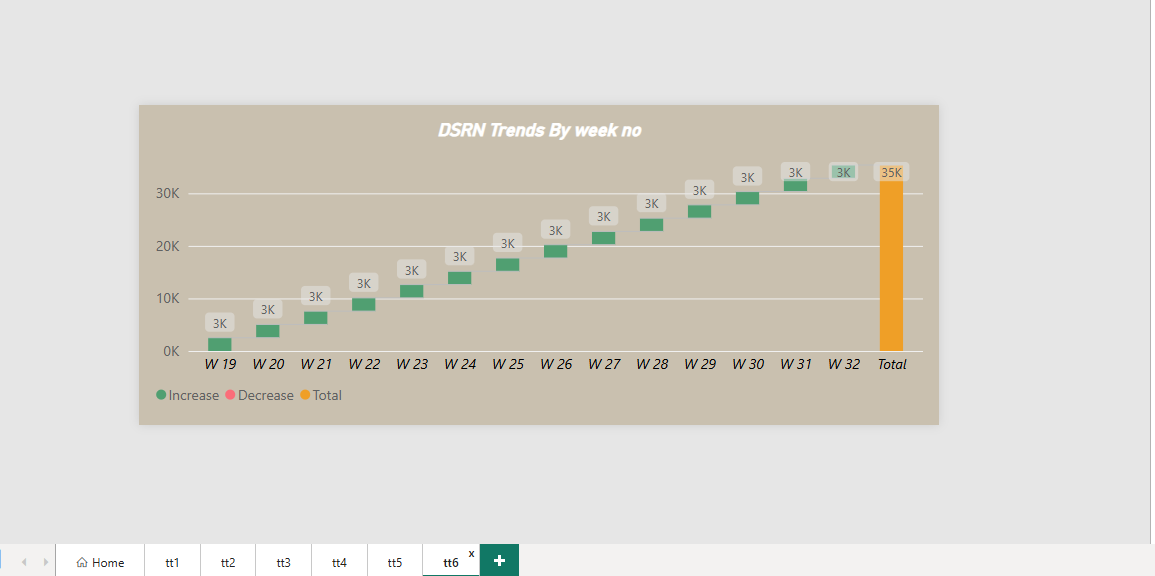

The page's visual inventory and layout, read from the dashboard file:
{"tool":"powerbi","page":{"name":"tt6","canvas":[800,320],"ordinal":6},"visuals":[{"type":"waterfallChart","title":"DSRN Trends By week no","fields":{"Category":["dim_date.week no"],"Y":["imp_measures.DSRN"]},"box":[0,0,800,320],"z":0}]}

Visuals, with their boxes on the page's 800x320 design canvas (x1, y1, x2, y2). These are canvas units, not pixel positions in the 1155x576 screenshot, which may show the page scaled, cropped or inside an application window:
"DSRN Trends By week no" waterfallChart: (0, 0, 800, 320)
